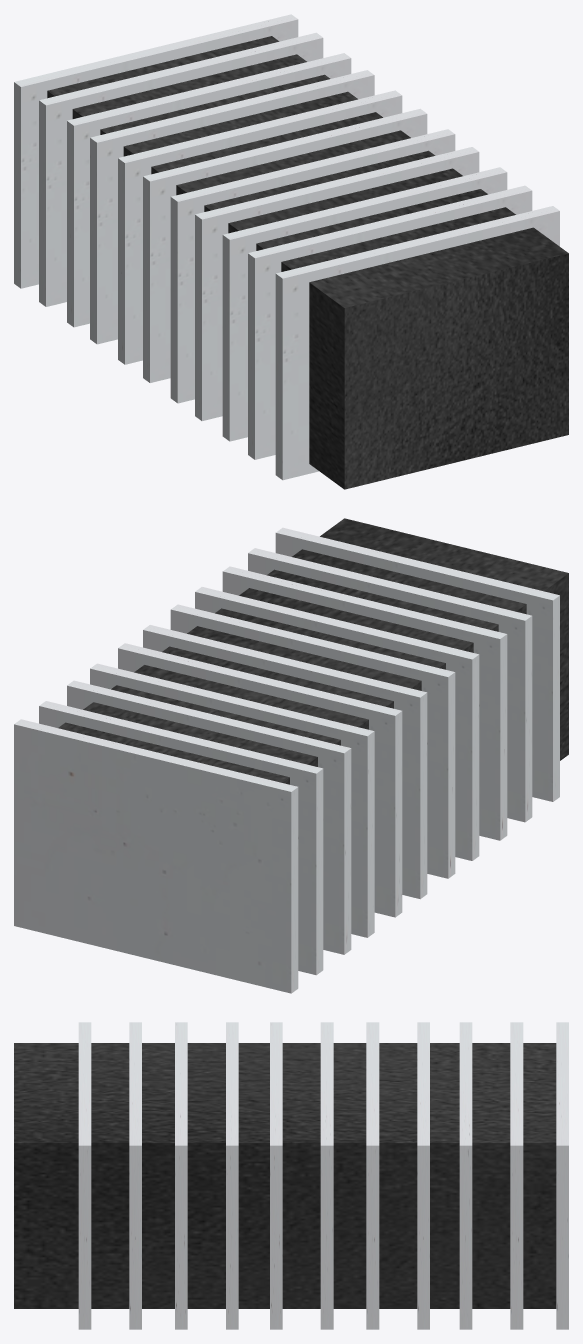
The model's file is fancybuild.fbx.
The picture shows the model from 3 angles, top to bottom: view 1: azimuth 30°, elevation 25°; view 2: azimuth 150°, elevation 25°; view 3: azimuth 270°, elevation 25°; orthographic projection. The views are drawn at different scales.
Visible parts, largest first — view 1: buildingfancy; view 2: buildingfancy; view 3: buildingfancy.
Part boxes in pixels (x1,y1,x2,y2): buildingfancy: (14, 14, 568, 489); buildingfancy: (14, 518, 568, 993); buildingfancy: (14, 1022, 568, 1329).
Bounding box in the file's own units: 76.71 × 53.29 × 146.
